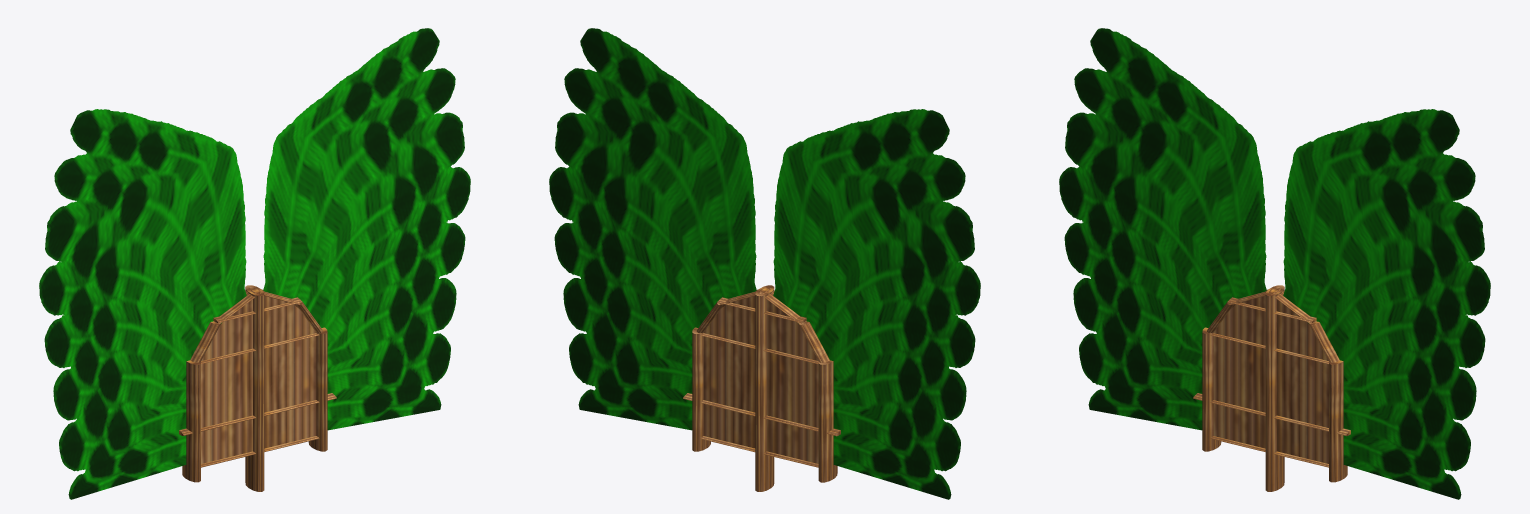
File: back_standard_b.dae
3 views of the same model, side by side, from view 1: azimuth 30°, elevation 25°; view 2: azimuth 150°, elevation 25°; view 3: azimuth 330°, elevation 25° (orthographic).
Visible parts, largest first — view 1: Cylinder.002; view 2: Cylinder.002; view 3: Cylinder.002.
Part boxes in pixels (left/top/right/bottom): Cylinder.002: left=39, top=28, right=470, bottom=499; Cylinder.002: left=549, top=28, right=980, bottom=499; Cylinder.002: left=1059, top=28, right=1490, bottom=499.
Bounding box in the file's own units: 2.46 × 0.1296 × 2.11.
1 material, 1 textured.
